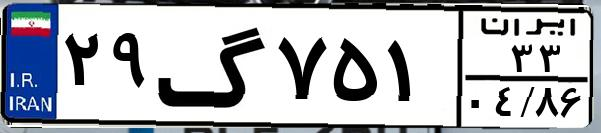0: (470, 70, 495, 125)
1: (385, 28, 445, 110)
2: (57, 26, 110, 100)
3: (537, 27, 568, 80), (508, 27, 537, 80)
4: (495, 70, 520, 125)
5: (330, 28, 385, 110)
6: (560, 70, 590, 125)
7: (270, 28, 330, 110)
8: (535, 70, 560, 125)
9: (110, 28, 156, 98)
گ: (156, 12, 270, 120)
